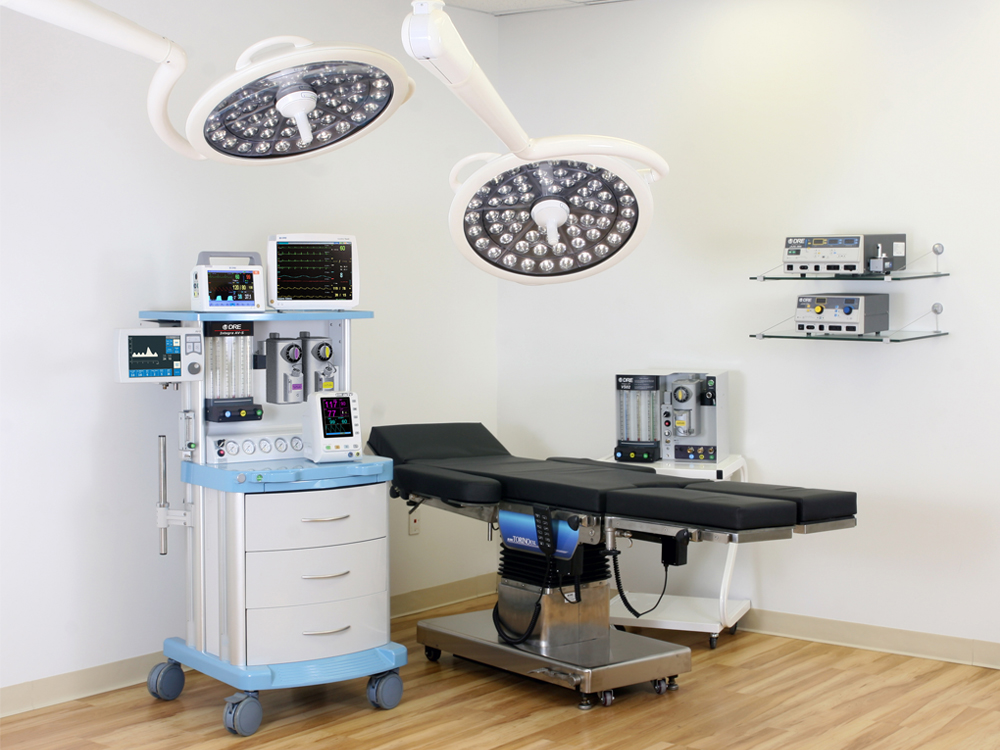bedside_monitor: (263, 230, 362, 314), (198, 260, 265, 319), (121, 333, 205, 380)
handle: (305, 623, 353, 640), (305, 567, 353, 584), (303, 511, 351, 528)
medical_drawer: (143, 453, 405, 735)
operating_bed: (365, 419, 859, 710)
surgical_light: (440, 135, 676, 287), (184, 35, 417, 168)
